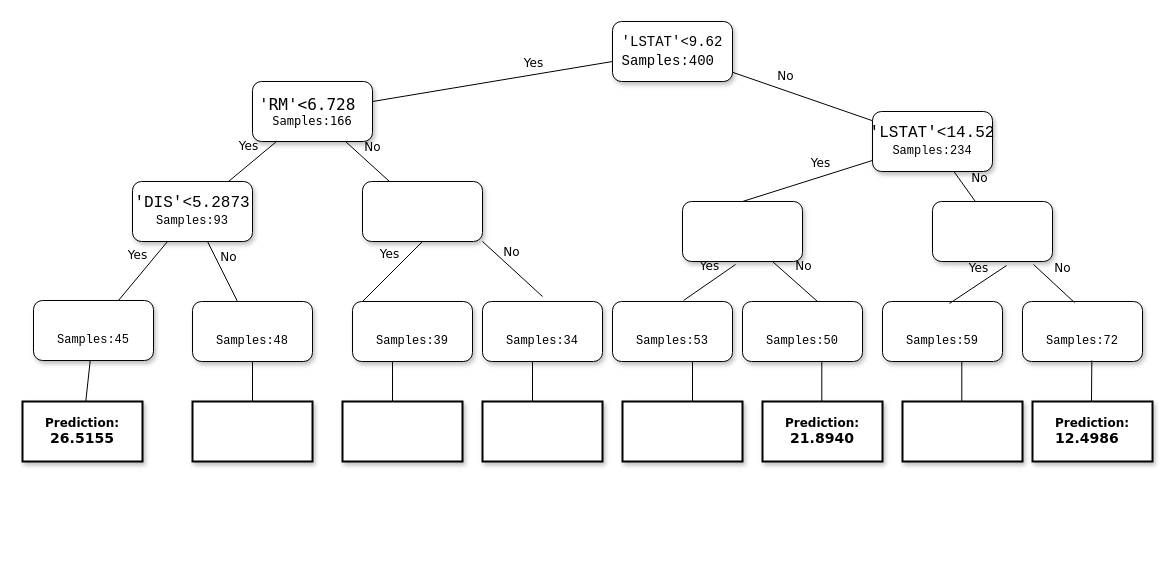
Image size: 1176x587. Some labels were removed from this diagram. Here are the shapes that lost their labels. From the top down, the centre of each, then its label:
At point (423, 212): "'RM'<7.18 Samples:73".
At point (743, 232): "'RM'<6.072 Samples:103".
At point (993, 232): "'NOX'<0.624 Samples:131".
At point (253, 432): "Prediction: 23.5333".
At point (403, 432): "Prediction: 31.2077".
At point (543, 432): "Prediction: 41.6823".
At point (683, 432): "Prediction: 20.1905".
At point (963, 432): "Prediction: 17.5661".
